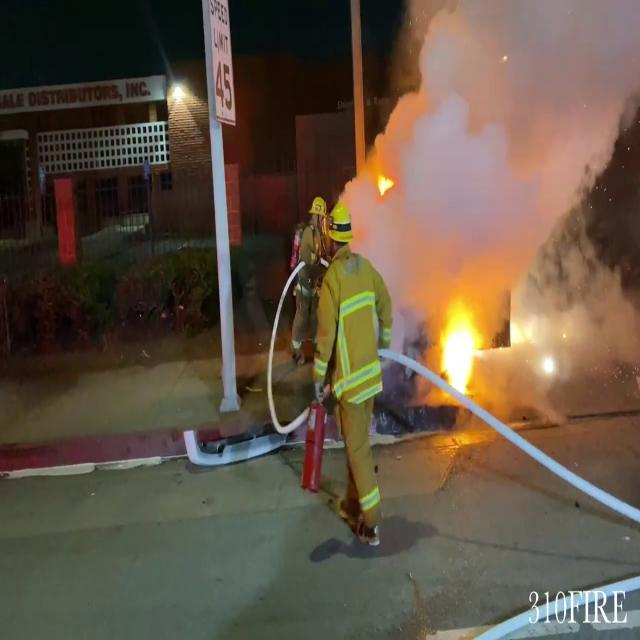Fire: (434, 298, 488, 396)
Smoke: (371, 0, 640, 291)
